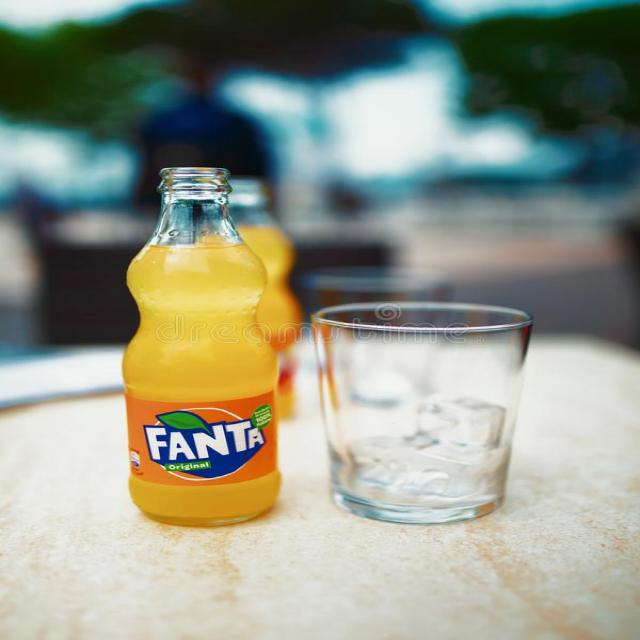Soda: (121, 167, 302, 530)
